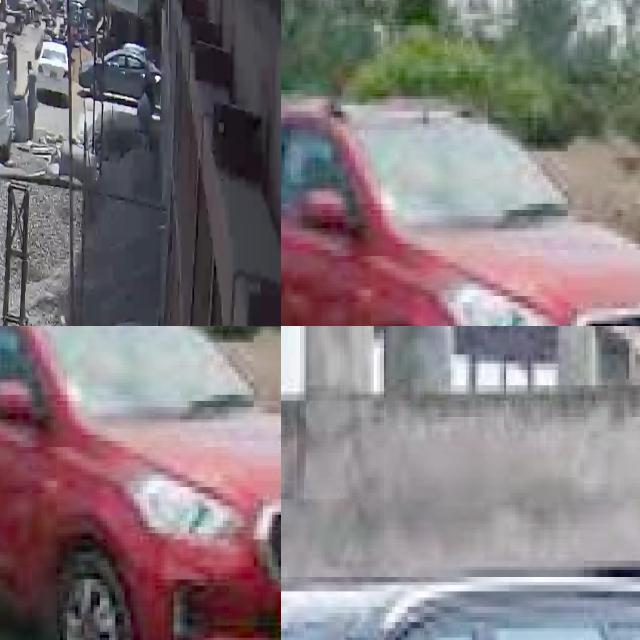car: (281, 31, 640, 326), (0, 326, 281, 640), (281, 483, 640, 640), (78, 49, 160, 115), (36, 42, 68, 102)
